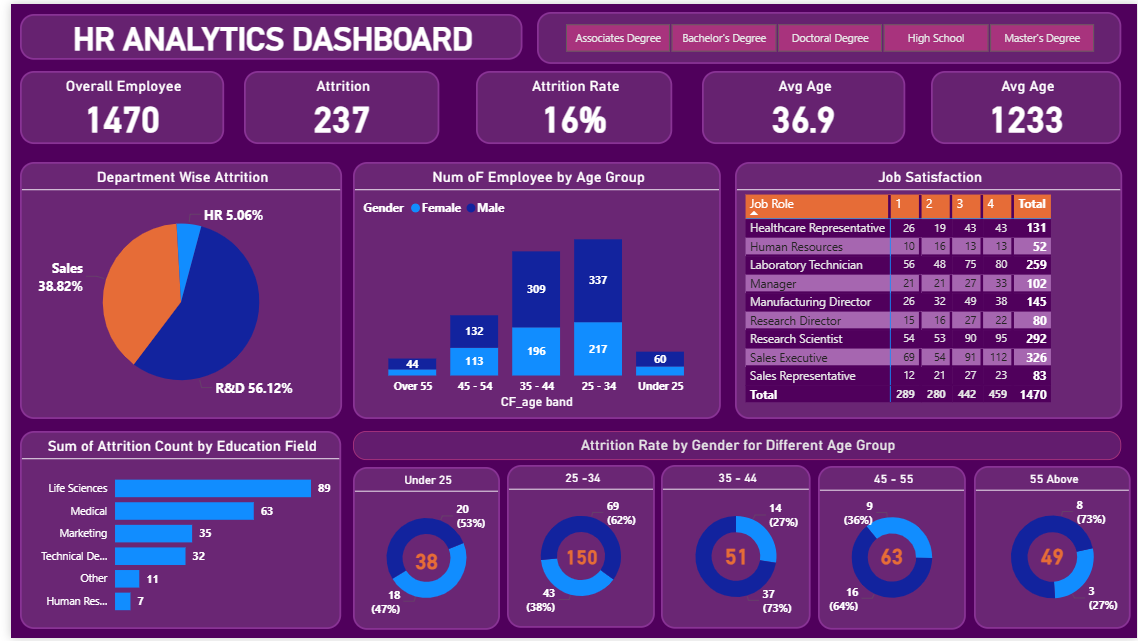

The dashboard page shown, as its layout file describes it:
{"tool":"powerbi","page":{"name":"Page 1","canvas":[1280,720],"ordinal":0},"visuals":[{"type":"card","title":"Overall Employee","fields":{"Values":["Sum(HR data.Employee Count)"]},"box":[10.4,75.6,232,83.4],"z":0},{"type":"card","title":"Attrition","fields":{"Values":["Sum(HR data.Attrition Count)"]},"box":[264.6,75.6,221.6,83.4],"z":1000},{"type":"card","title":"Attrition Rate","fields":{"Values":["HR data.Attrition Rate"]},"box":[527.9,75.6,222.9,83.4],"z":2000},{"type":"card","title":"Avg Age","fields":{"Values":["Avg(HR data.Age)"]},"box":[784.7,75.6,230.7,83.4],"z":3000},{"type":"card","title":"Avg Age","fields":{"Values":["HR data.Active Employee"]},"box":[1045.4,75.6,216.4,83.4],"z":4000},{"type":"pieChart","title":"Department Wise Attrition","fields":{"Category":["HR data.Department"],"Y":["Sum(HR data.Attrition Count)"]},"box":[10.2,179.8,365.9,292],"z":5000},{"type":"columnChart","title":"Num oF Employee by Age Group","fields":{"Category":["HR data.CF_age band"],"Y":["Sum(HR data.Employee Count)"],"Series":["HR data.Gender"]},"box":[388.8,179.8,418.2,292],"z":6000},{"type":"pivotTable","title":"Job Satisfaction","fields":{"Rows":["HR data.Job Role"],"Columns":["HR data.Job Satisfaction"],"Values":["Sum(HR data.Employee Count)"]},"box":[822.3,179.8,439.8,292],"z":7000},{"type":"clusteredBarChart","fields":{"Category":["HR data.Education Field"],"Y":["Sum(HR data.Attrition Count)"]},"box":[10.4,484.9,365,225.5],"z":8000},{"type":"donutChart","title":"Under 25","fields":{"Category":["HR data.Gender"],"Y":["Sum(HR data.Attrition Count)"],"Series":["HR data.CF_age band"]},"box":[388.5,526.5,167,184.8],"z":9000},{"type":"textbox","title":"Attrition Rate by Gender for Different Age Group","box":[388.4,484.9,873.3,32.6],"z":10000},{"type":"donutChart","title":"35 - 44","fields":{"Category":["HR data.Gender"],"Y":["Sum(HR data.Attrition Count)"],"Series":["HR data.CF_age band"]},"box":[739.1,524.2,170.3,185.9],"z":11000},{"type":"donutChart","title":"55 Above","fields":{"Category":["HR data.Gender"],"Y":["Sum(HR data.Attrition Count)"],"Series":["HR data.CF_age band"]},"box":[1094.1,525.4,178.1,184.8],"z":12000},{"type":"donutChart","title":"25 -34","fields":{"Category":["HR data.Gender"],"Y":["Sum(HR data.Attrition Count)"],"Series":["HR data.CF_age band"]},"box":[563.2,524.2,168.1,184.8],"z":13000},{"type":"donutChart","title":"45 - 55","fields":{"Category":["HR data.Gender"],"Y":["Sum(HR data.Attrition Count)"],"Series":["HR data.CF_age band"]},"box":[917.1,525.4,168.1,185.9],"z":14000},{"type":"card","fields":{"Values":["Sum(HR data.Attrition Count)"]},"box":[450.8,616.6,42.3,31.2],"z":15000},{"type":"card","fields":{"Values":["Sum(HR data.Attrition Count)"]},"box":[616.5,607.4,62.6,40.4],"z":16000},{"type":"card","fields":{"Values":["Sum(HR data.Attrition Count)"]},"box":[800.3,607.4,48.2,39.1],"z":17000},{"type":"card","fields":{"Values":["Sum(HR data.Attrition Count)"]},"box":[980.2,607.4,40.4,39.1],"z":18000},{"type":"card","fields":{"Values":["Sum(HR data.Attrition Count)"]},"box":[1158.8,607.4,48.2,39.1],"z":19000},{"type":"textbox","title":"HR ANALYTICS DASHBOARD","box":[10.4,11.7,570.9,52.1],"z":20000},{"type":"slicer","fields":{"Values":["HR data.Education"]},"box":[597.9,8.9,664.2,58.6],"z":21000}]}

Visuals, with their boxes in screenshot pixels (x1, y1, x2, y2), scaled from the page's 1280x720 canvas onto the 1138x641 screenshot:
"Overall Employee" card: left=9, top=67, right=216, bottom=142
"Attrition" card: left=235, top=67, right=432, bottom=142
"Attrition Rate" card: left=469, top=67, right=668, bottom=142
"Avg Age" card: left=698, top=67, right=903, bottom=142
"Avg Age" card: left=929, top=67, right=1122, bottom=142
"Department Wise Attrition" pieChart: left=9, top=160, right=334, bottom=420
"Num oF Employee by Age Group" columnChart: left=346, top=160, right=717, bottom=420
"Job Satisfaction" pivotTable: left=731, top=160, right=1122, bottom=420
clusteredBarChart - HR data.Education Field x Sum(HR data.Attrition Count): left=9, top=432, right=334, bottom=632
"Under 25" donutChart: left=345, top=469, right=494, bottom=633
"Attrition Rate by Gender for Different Age Group" textbox: left=345, top=432, right=1122, bottom=461
"35 - 44" donutChart: left=657, top=467, right=809, bottom=632
"55 Above" donutChart: left=973, top=468, right=1131, bottom=632
"25 -34" donutChart: left=501, top=467, right=650, bottom=631
"45 - 55" donutChart: left=815, top=468, right=965, bottom=633
card - Sum(HR data.Attrition Count): left=401, top=549, right=438, bottom=577
card - Sum(HR data.Attrition Count): left=548, top=541, right=604, bottom=577
card - Sum(HR data.Attrition Count): left=712, top=541, right=754, bottom=576
card - Sum(HR data.Attrition Count): left=871, top=541, right=907, bottom=576
card - Sum(HR data.Attrition Count): left=1030, top=541, right=1073, bottom=576
"HR ANALYTICS DASHBOARD" textbox: left=9, top=10, right=517, bottom=57
slicer - HR data.Education: left=532, top=8, right=1122, bottom=60
